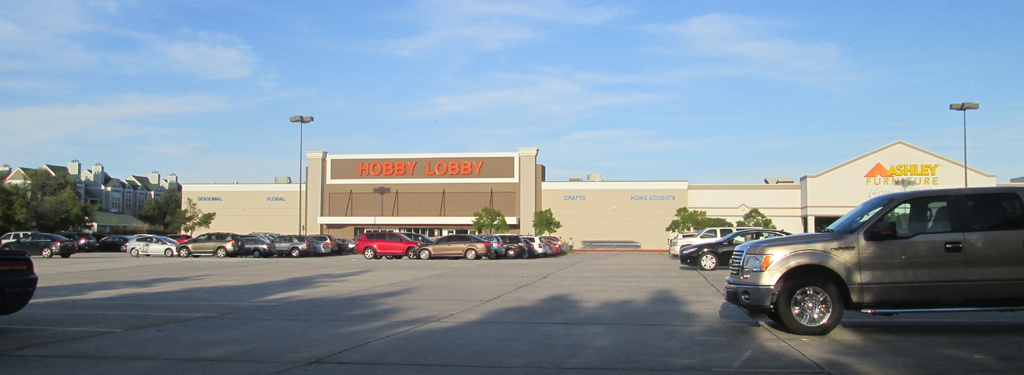Car: (721, 181, 1024, 337), (122, 229, 354, 259), (353, 230, 564, 260), (669, 226, 795, 271), (0, 232, 131, 258), (0, 249, 37, 316)
